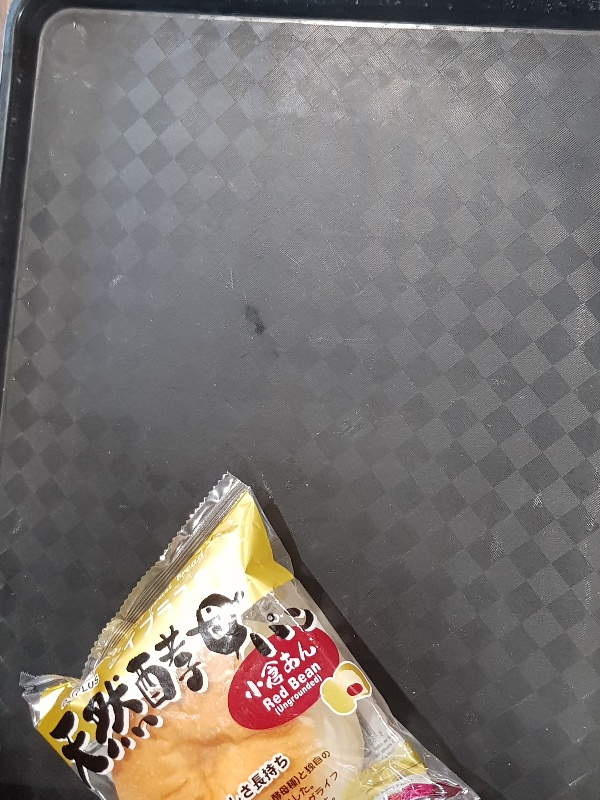Dayplus Red Bean: (18, 474, 480, 800)
